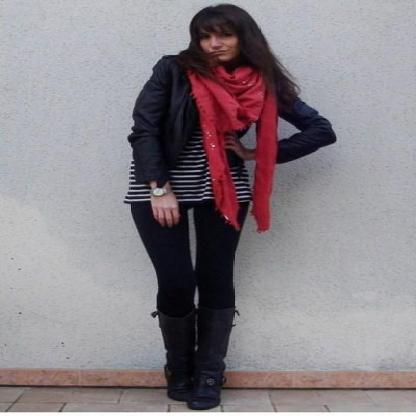jacket: (127, 53, 336, 171)
pants: (124, 191, 255, 317)
shirt: (128, 137, 253, 204)
shoe: (151, 309, 236, 410)
